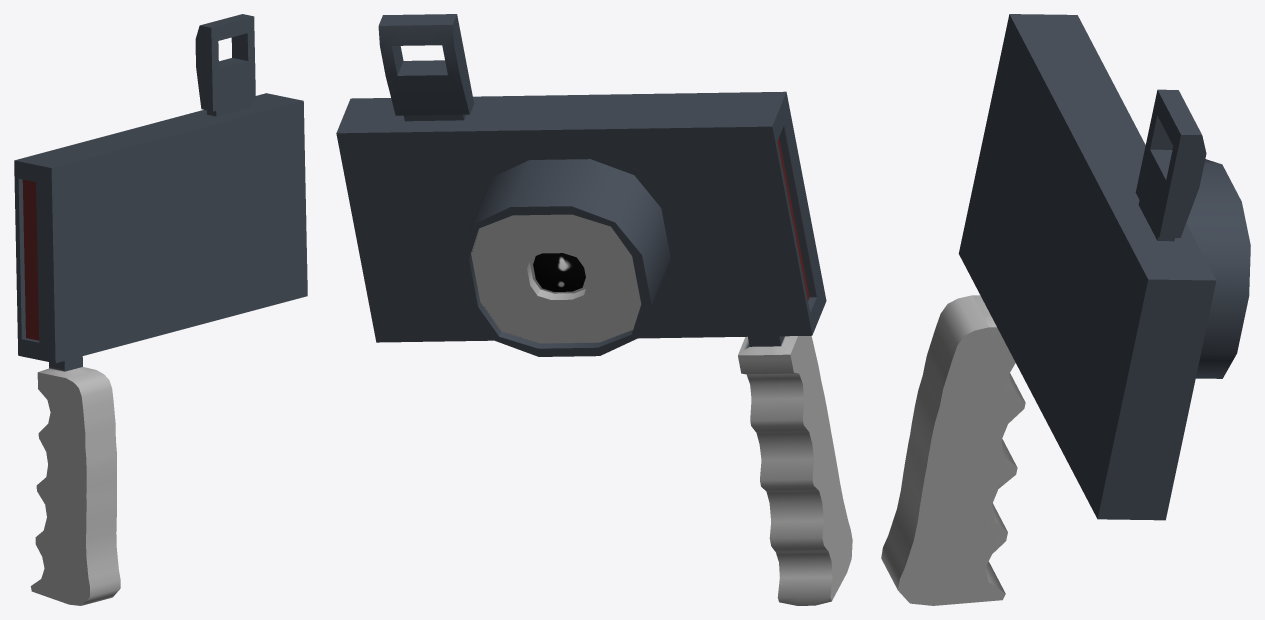
File: astronaut_camera.fbx
3 renders of one model, left to right at view 1: azimuth 30°, elevation 25°; view 2: azimuth 150°, elevation 25°; view 3: azimuth 270°, elevation 25°, orthographic. The views are drawn at different scales.
Visible parts, largest first — view 1: gemini_camera; view 2: gemini_camera; view 3: gemini_camera.
Boxes of the visible parts, box(x1,y1,x2,y2) form: gemini_camera: box(14, 14, 307, 605); gemini_camera: box(336, 14, 852, 605); gemini_camera: box(881, 14, 1250, 605).
Size of the model in its own units: 7.37 by 9.97 by 5.12.
